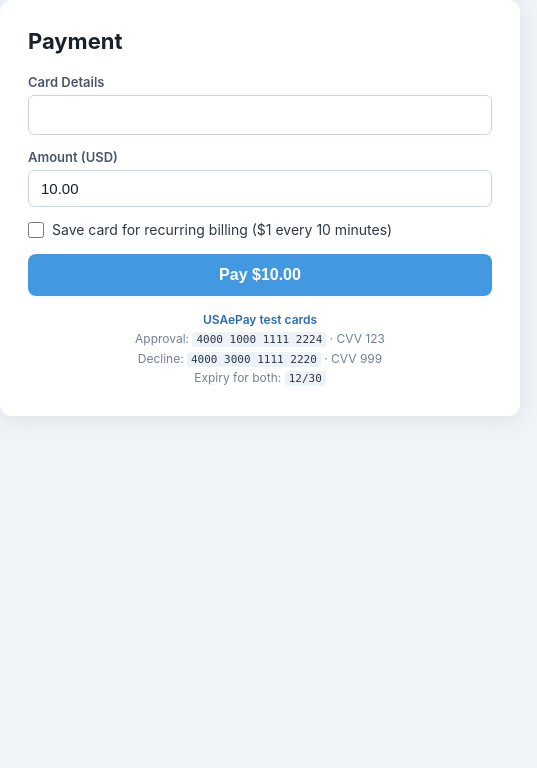
Scenario: displays a decline without claiming the initial charge was approved
Click the checkbox labelled "Save card for recurring billing ($1 every 10 minutes)".
click(36, 230)  # box [28,222,44,238]
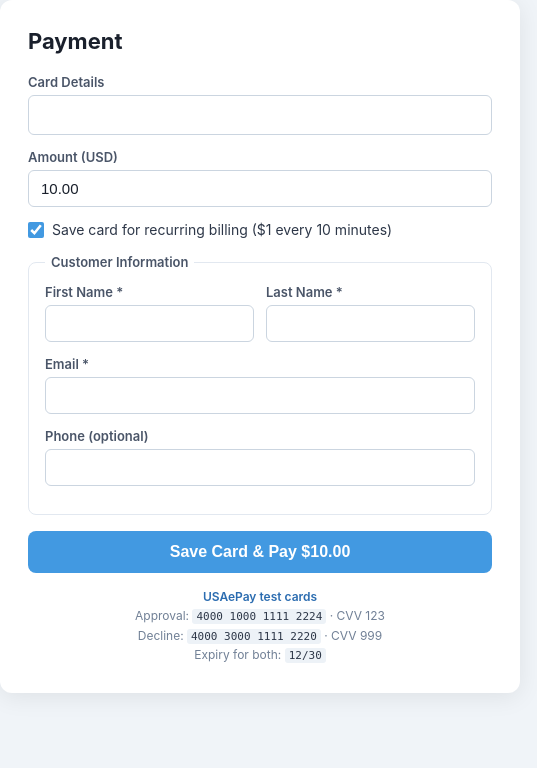
Type "Test" into the field labelled "First Name *".
click(150, 324); type("Test")  # box [45,305,254,342]
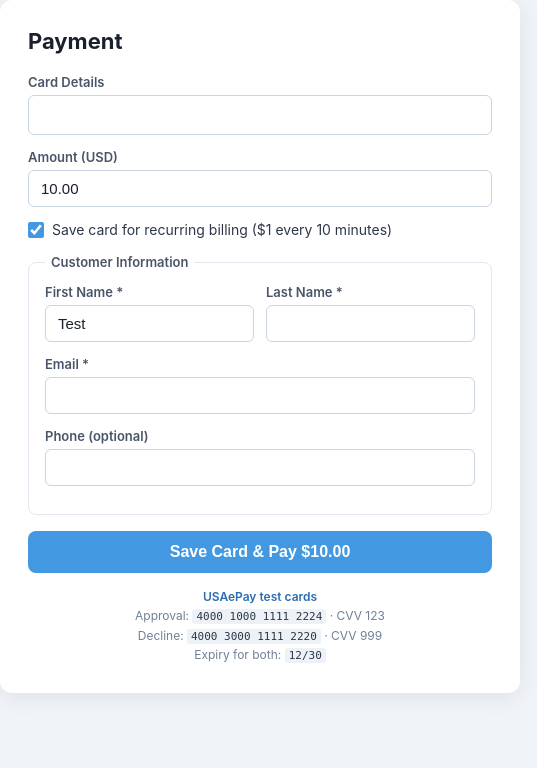
Type "Customer" into the field labelled "Last Name *".
click(370, 324); type("Customer")  # box [266,305,475,342]
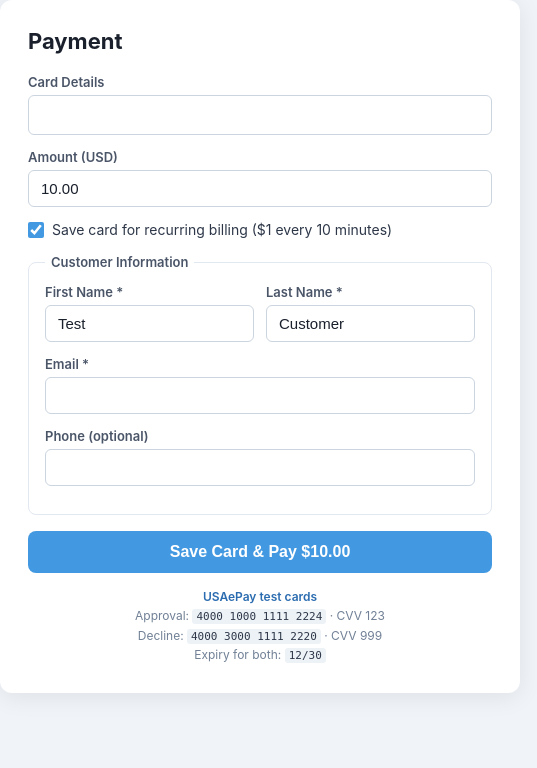
Type "test@example.com" into the field labelled "Email *".
click(260, 396); type("test@example.com")  # box [45,377,475,414]
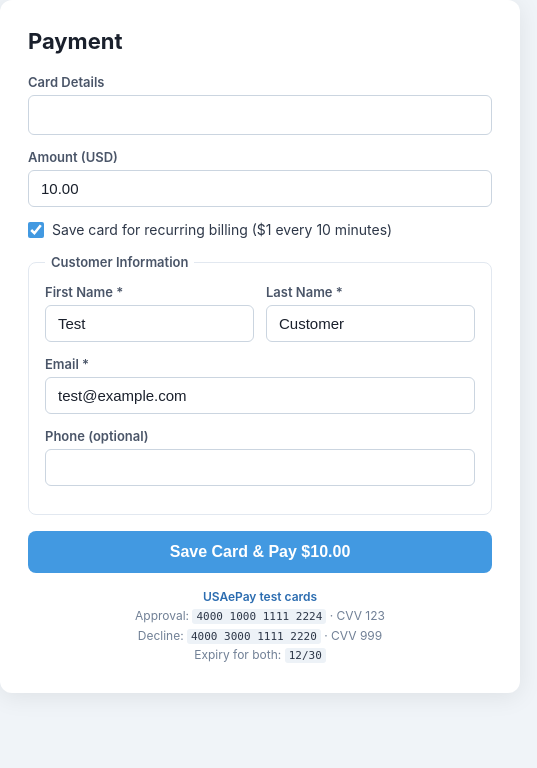
Click the button "Save Card & Pay $10.00".
click(260, 552)  # box [28,531,492,573]
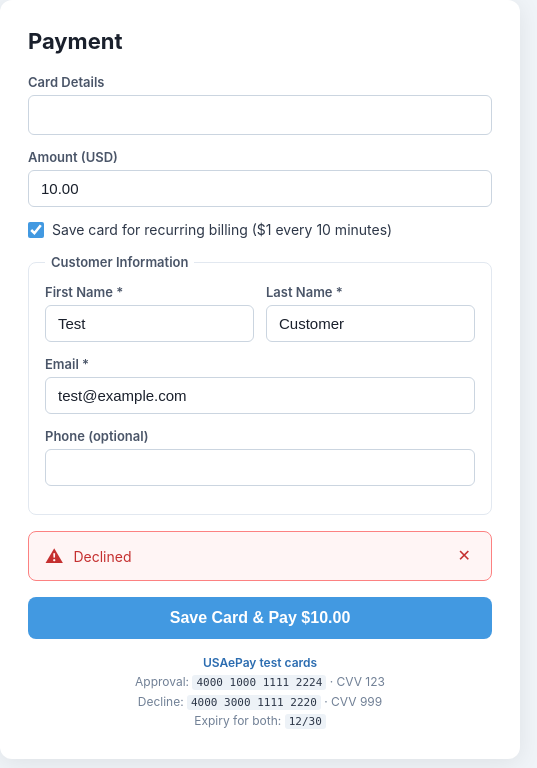
Check: the message shows "Declined", box [74,548,132,564]
